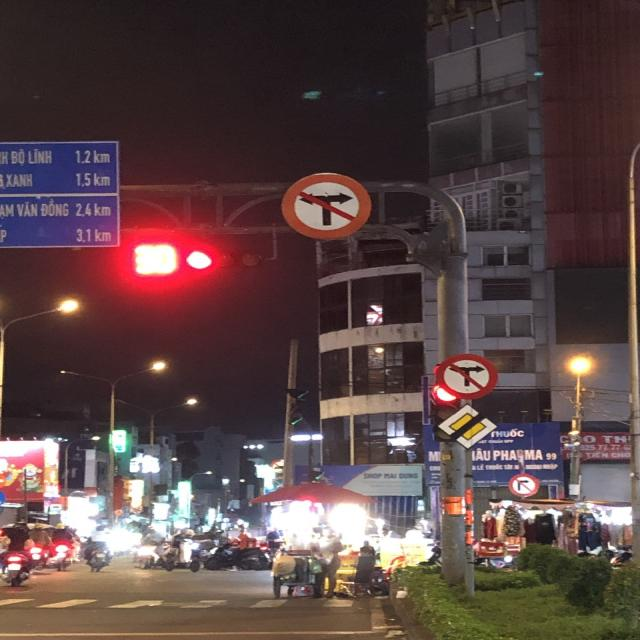Bien bao cam re phai: (507, 470, 541, 499)
